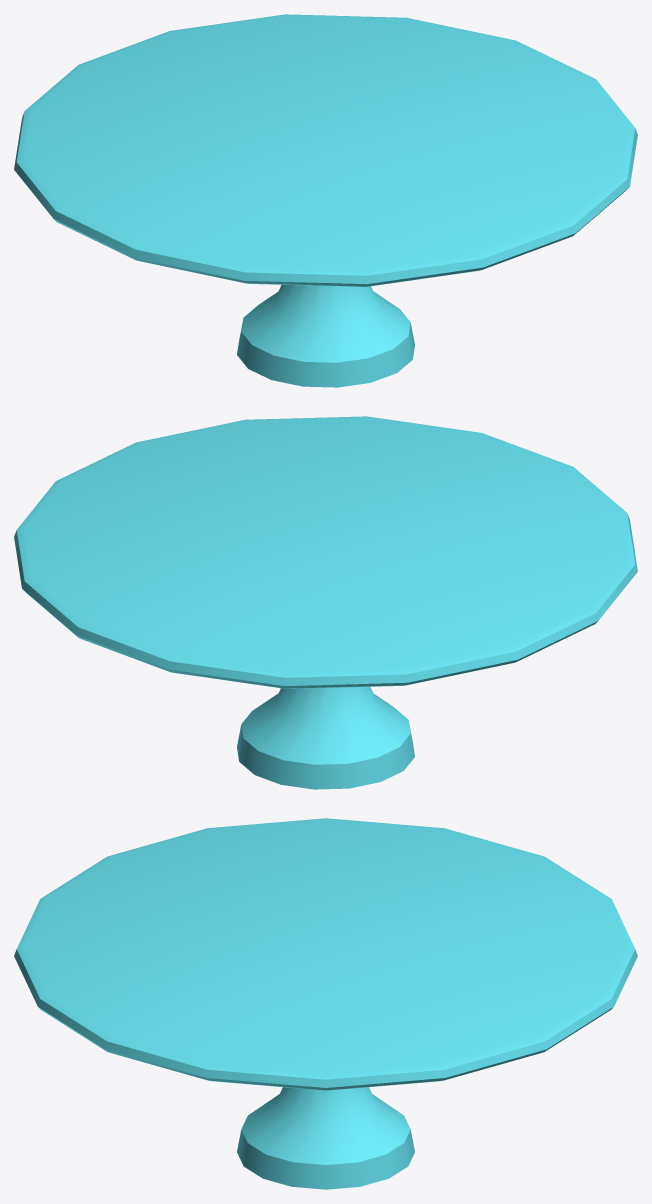
File: MesaPequeña.fbx
The picture shows the model from 3 angles, top to bottom: view 1: azimuth 30°, elevation 25°; view 2: azimuth 150°, elevation 25°; view 3: azimuth 270°, elevation 25°; orthographic projection.
Visible parts, largest first — view 1: Cylinder006; view 2: Cylinder006; view 3: Cylinder006.
Boxes of the visible parts, <box> form: Cylinder006: <box>14,14,637,387</box>; Cylinder006: <box>14,416,637,789</box>; Cylinder006: <box>14,818,637,1189</box>.
Bounding box in the file's own units: 36.54 × 13.27 × 36.54.
